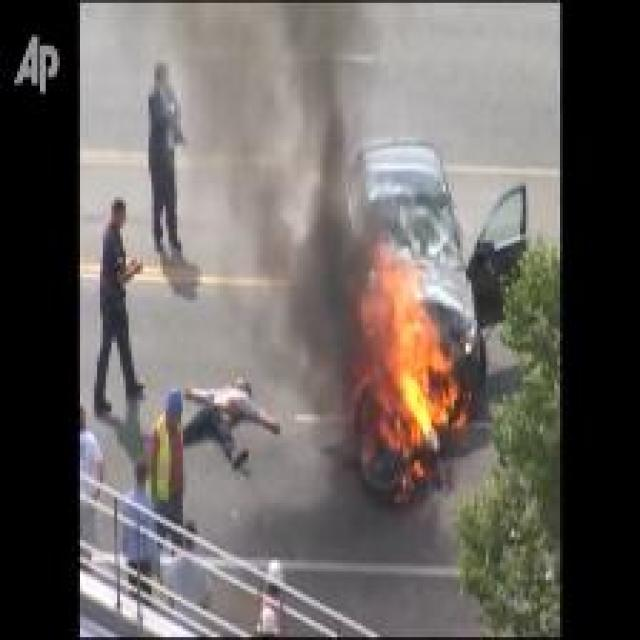Fire: (356, 238, 470, 458)
